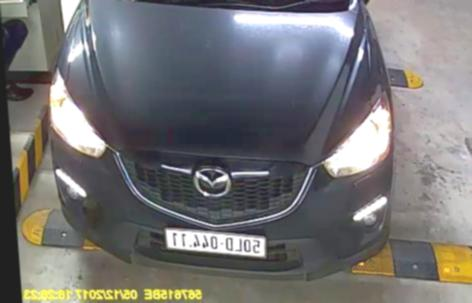License_Plate: (162, 225, 268, 256)
